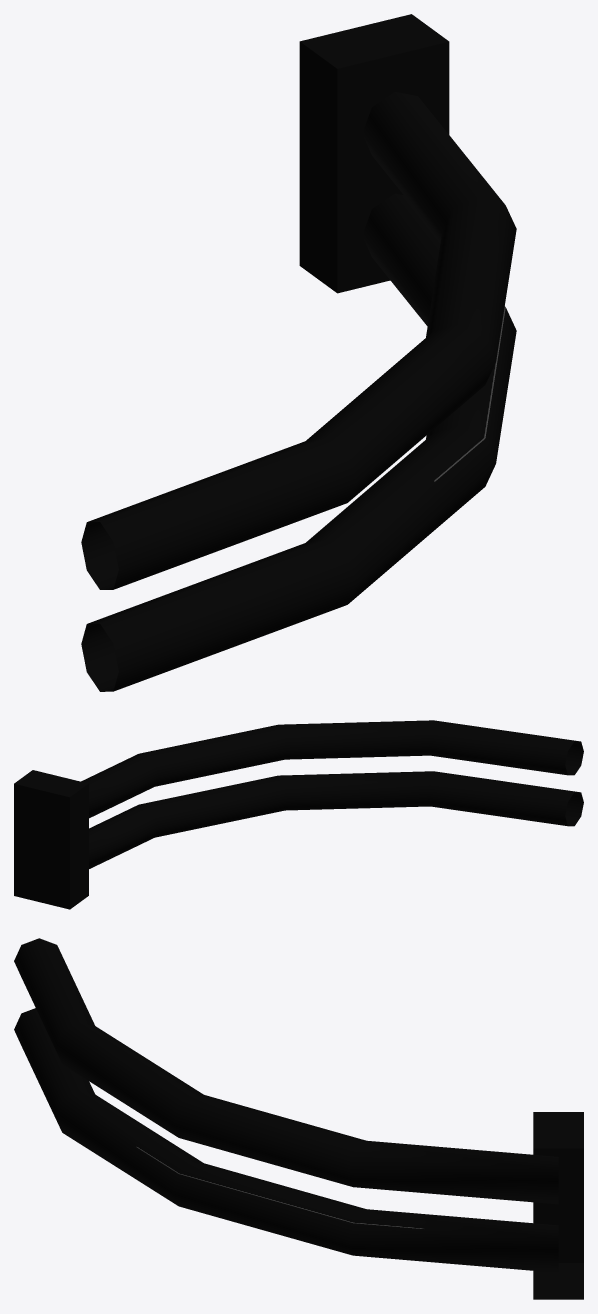
Rendered from WireFence2Bend.fbx.
3 views of the same model, one above another, from view 1: azimuth 30°, elevation 25°; view 2: azimuth 150°, elevation 25°; view 3: azimuth 270°, elevation 25° (orthographic). The views are drawn at different scales.
Parts seen in each view (by area): view 1: PipesBend; view 2: PipesBend; view 3: PipesBend.
Boxes of the visible parts, x1,y1,x2,y2 form: PipesBend: (81,14,516,691); PipesBend: (14,720,583,909); PipesBend: (14,938,583,1299).
Bounding box in the file's own units: 135 × 40.53 × 139.
Materials: 1 (1 with a texture image).
